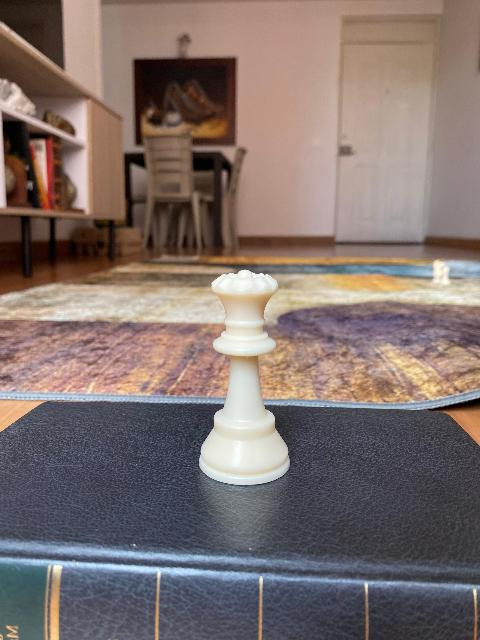white-queen: (198, 268, 292, 486)
